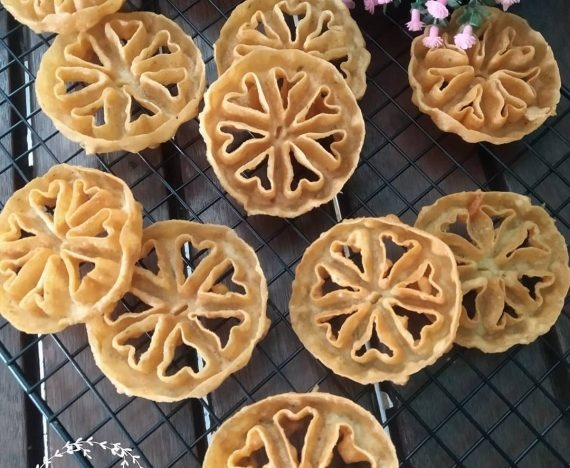kembang_goyang: (279, 220, 454, 378), (197, 40, 357, 205), (102, 223, 257, 391), (36, 26, 206, 152)
